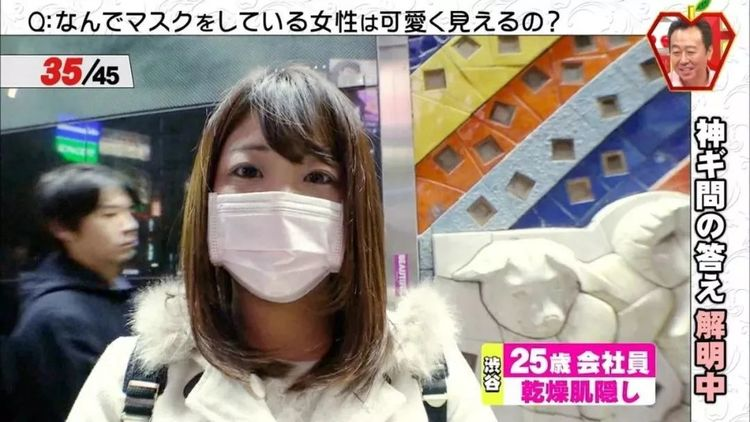mask: (202, 128, 352, 298)
